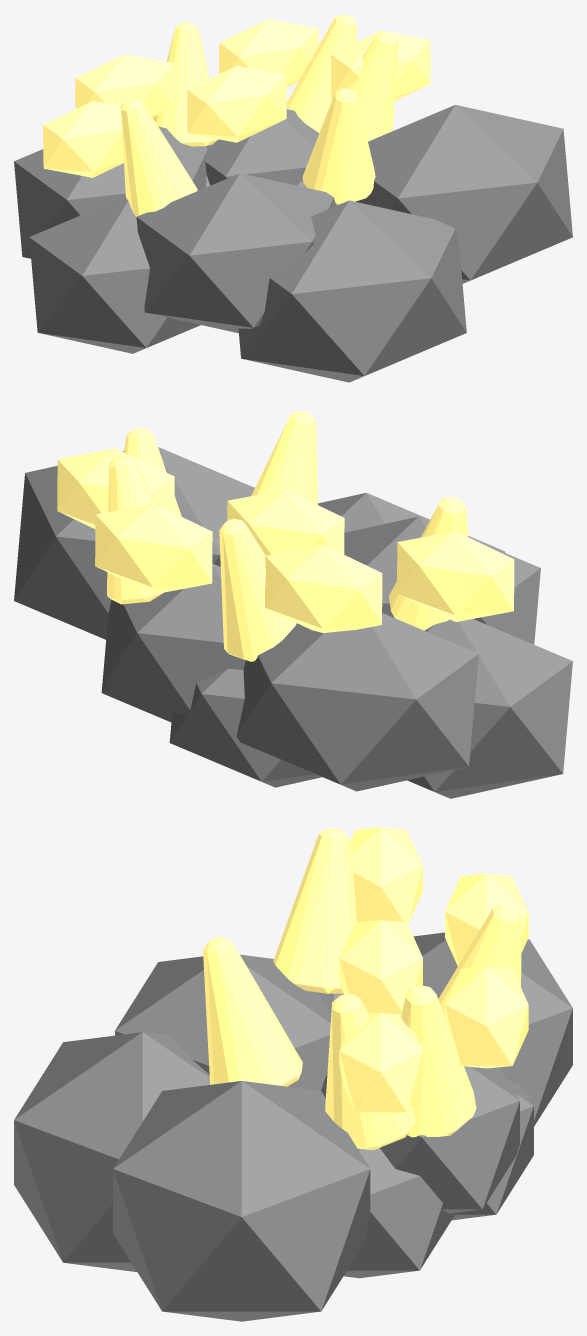
Rendered from gravewood_gold_fragment.glb.
3 renders of one model, top to bottom at view 1: azimuth 30°, elevation 25°; view 2: azimuth 150°, elevation 25°; view 3: azimuth 270°, elevation 25°, orthographic. The views are drawn at different scales.
Size of the model in its own units: 1.71 by 0.8805 by 1.27.
